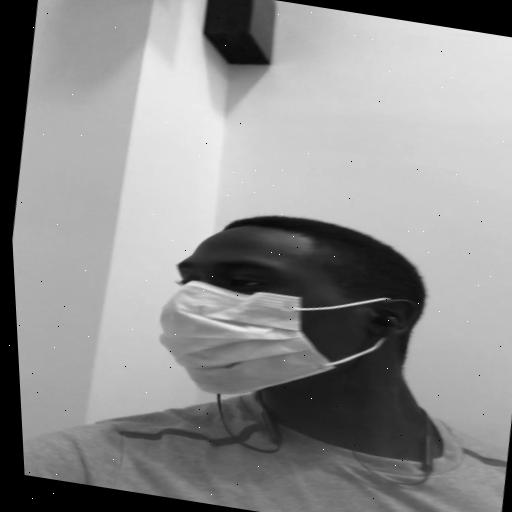mask: (140, 220, 404, 420)
